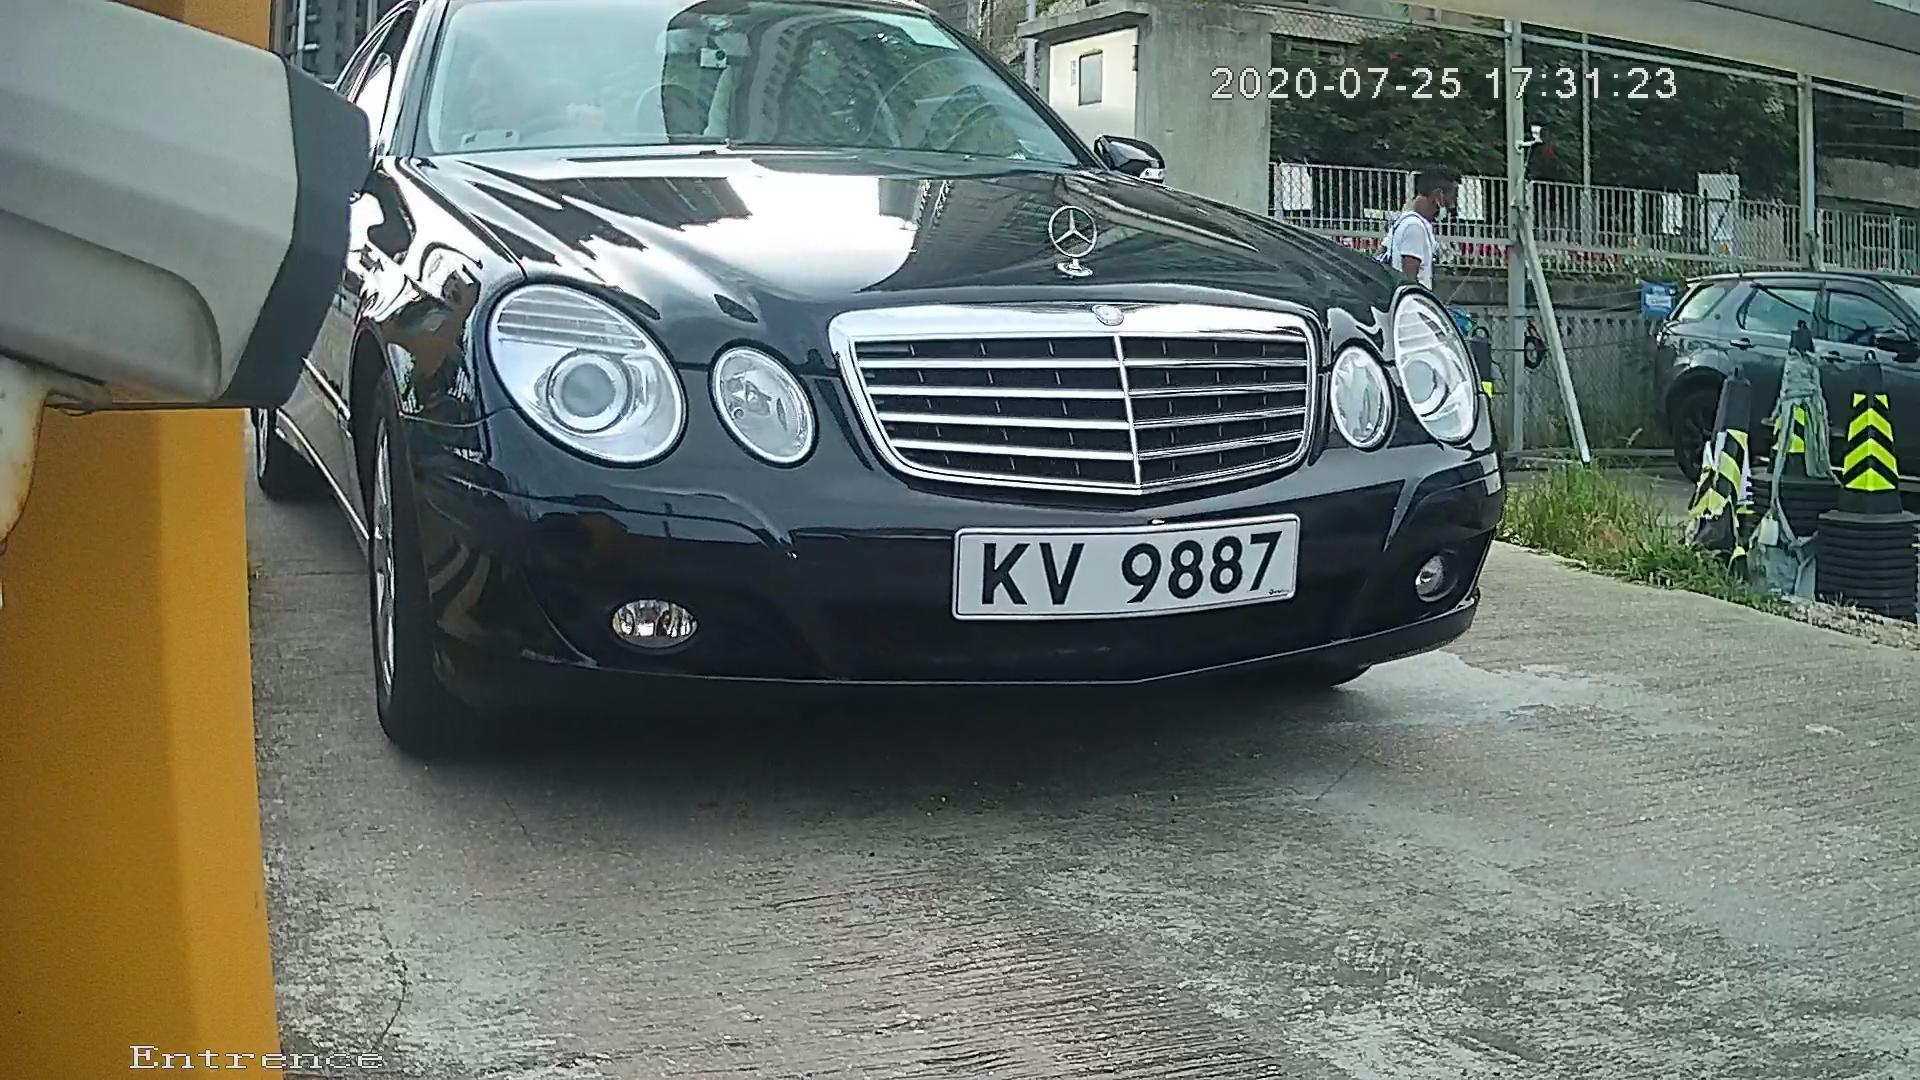privatecar: (241, 1, 1621, 800)
